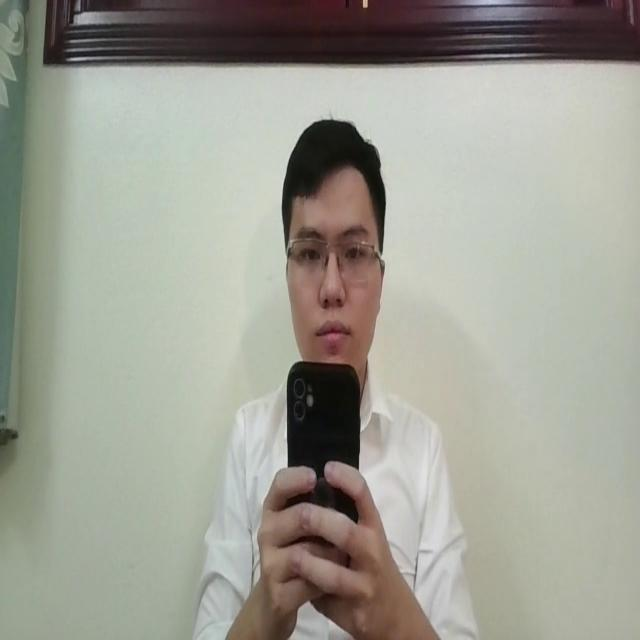phone: (286, 352, 362, 584)
student: (188, 113, 478, 640)
